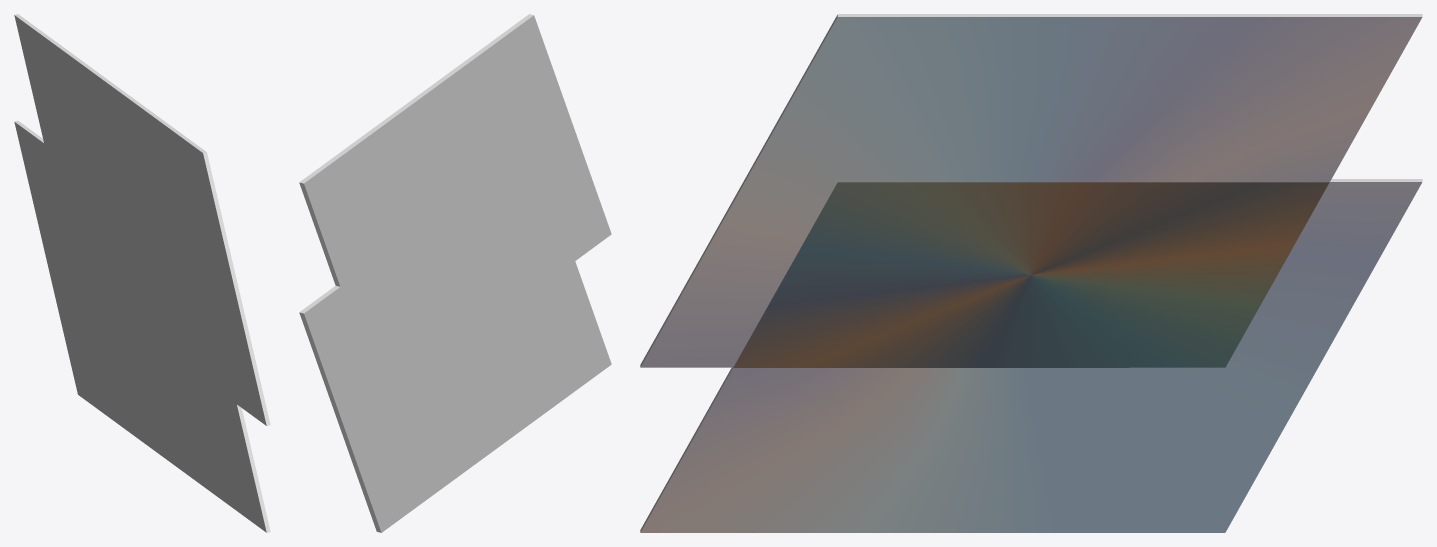
File: Iris.glb
The picture shows the model from 3 angles, left to right: view 1: azimuth 30°, elevation 25°; view 2: azimuth 150°, elevation 25°; view 3: azimuth 270°, elevation 25°; orthographic projection. The views are drawn at different scales.
Parts seen in each view (by area): view 1: Frame; view 2: Frame; view 3: Out, In, Frame.
Part boxes in pixels (x1=…): Frame: x1=14, y1=14, x2=270, y2=532; Frame: x1=299, y1=14, x2=611, y2=532; Out: x1=640, y1=17, x2=1422, y2=532; In: x1=733, y1=182, x2=1329, y2=367; Frame: x1=640, y1=14, x2=1422, y2=532.
Size of the model in its own units: 0.0459 by 3.64 by 5.
Materials: 3 (2 with a texture image).
